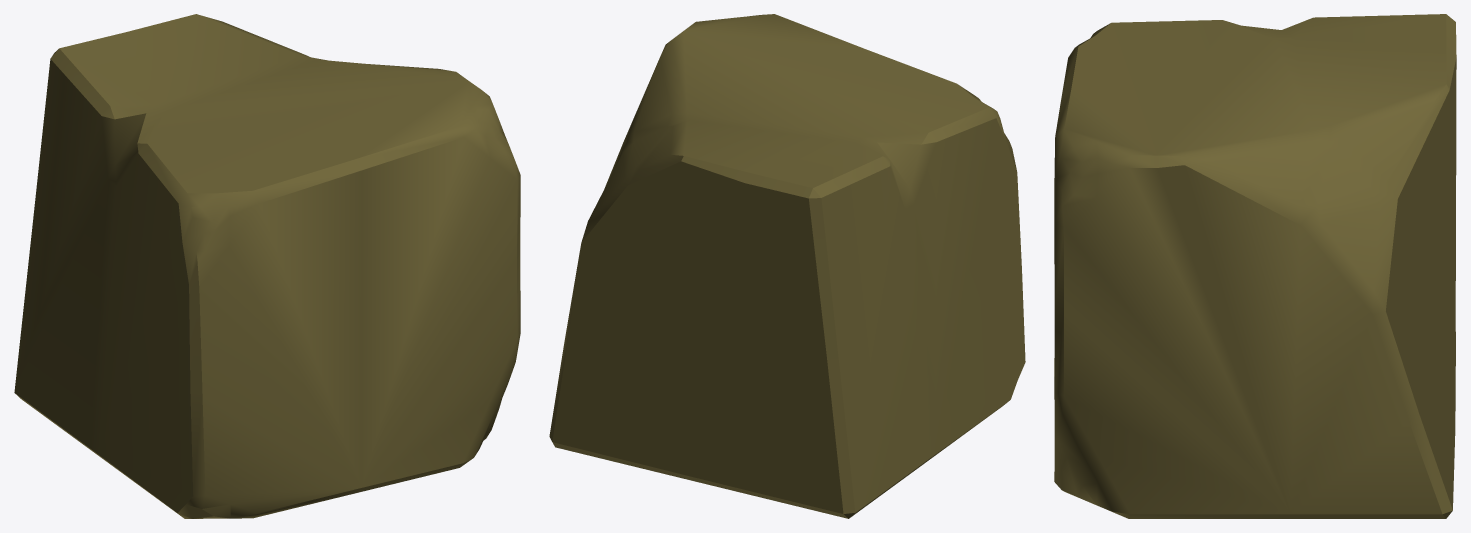
Rendered from block2.fbx.
3 renders of one model, left to right at view 1: azimuth 30°, elevation 25°; view 2: azimuth 150°, elevation 25°; view 3: azimuth 270°, elevation 25°, orthographic. The views are drawn at different scales.
Visible parts, largest first — view 1: Block_2; view 2: Block_2; view 3: Block_2.
Part boxes in pixels (box(x1,y1,x2,y2)): Block_2: box(14, 14, 520, 518); Block_2: box(549, 14, 1025, 518); Block_2: box(1054, 14, 1456, 518).
Bounding box in the file's own units: 74.03 × 74.04 × 74.11.
